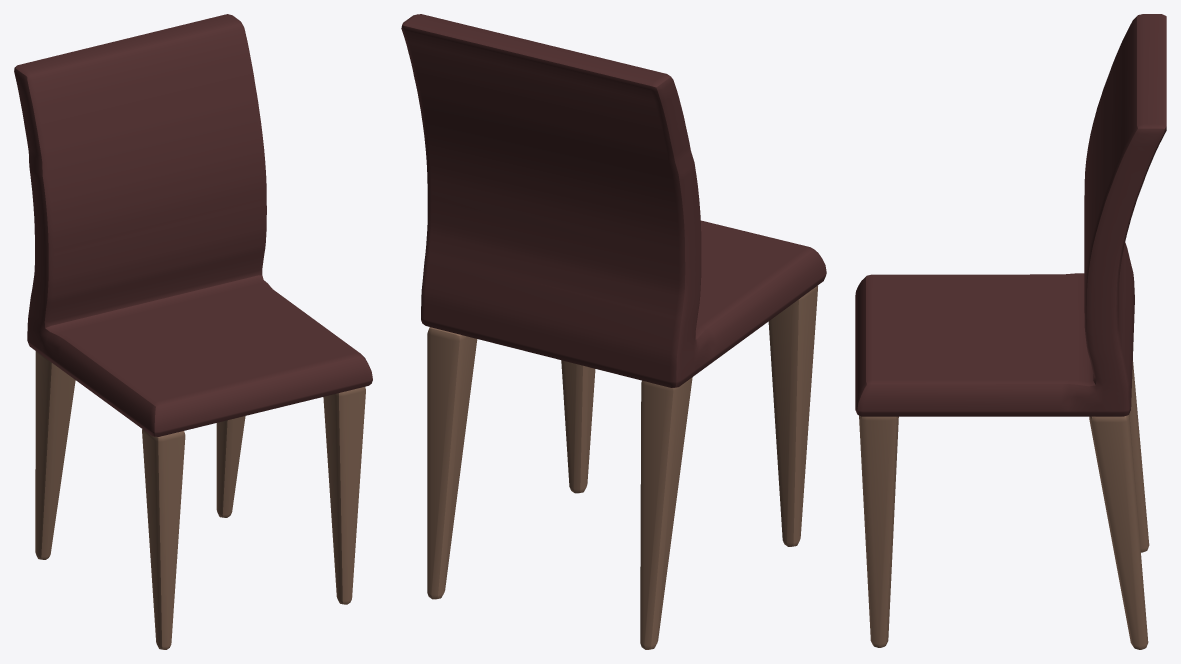
Rendered from Stuhl.fbx.
3 renders of one model, left to right at view 1: azimuth 30°, elevation 25°; view 2: azimuth 150°, elevation 25°; view 3: azimuth 270°, elevation 25°, orthographic. The views are drawn at different scales.
Visible parts, largest first — view 1: pCube1, pCube3, pCube5, pCube2, pCube4; view 2: pCube1, pCube4, pCube2, pCube3, pCube5; view 3: pCube1, pCube4, pCube5, pCube2.
Boxes of the visible parts, x1=… form: pCube1: x1=14, y1=14, x2=372, y2=436; pCube3: x1=142, y1=429, x2=185, y2=649; pCube5: x1=323, y1=387, x2=365, y2=604; pCube2: x1=35, y1=351, x2=75, y2=559; pCube4: x1=216, y1=416, x2=245, y2=517; pCube1: x1=401, y1=14, x2=826, y2=387; pCube4: x1=427, y1=327, x2=477, y2=599; pCube2: x1=640, y1=377, x2=692, y2=649; pCube3: x1=768, y1=285, x2=817, y2=546; pCube5: x1=561, y1=360, x2=595, y2=493; pCube1: x1=855, y1=14, x2=1166, y2=416; pCube4: x1=1089, y1=414, x2=1148, y2=649; pCube5: x1=859, y1=415, x2=898, y2=647; pCube2: x1=1129, y1=361, x2=1149, y2=552.
Size of the model in its own units: 2 by 4.23 by 2.24.
